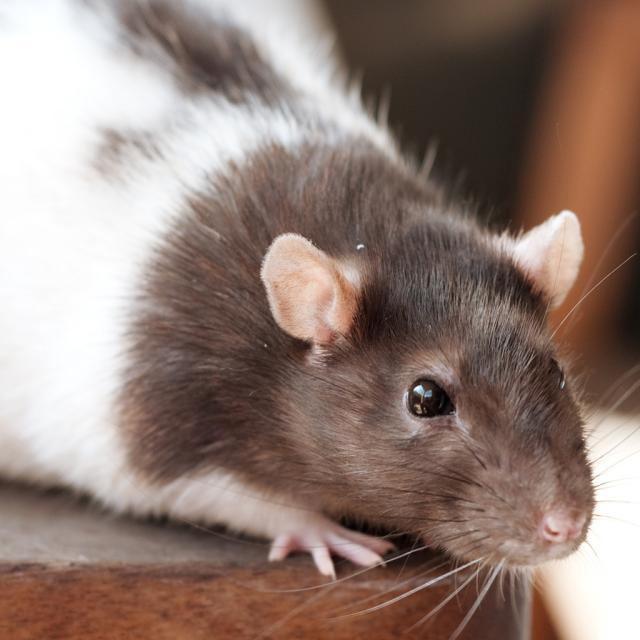rat: (0, 0, 599, 581)
